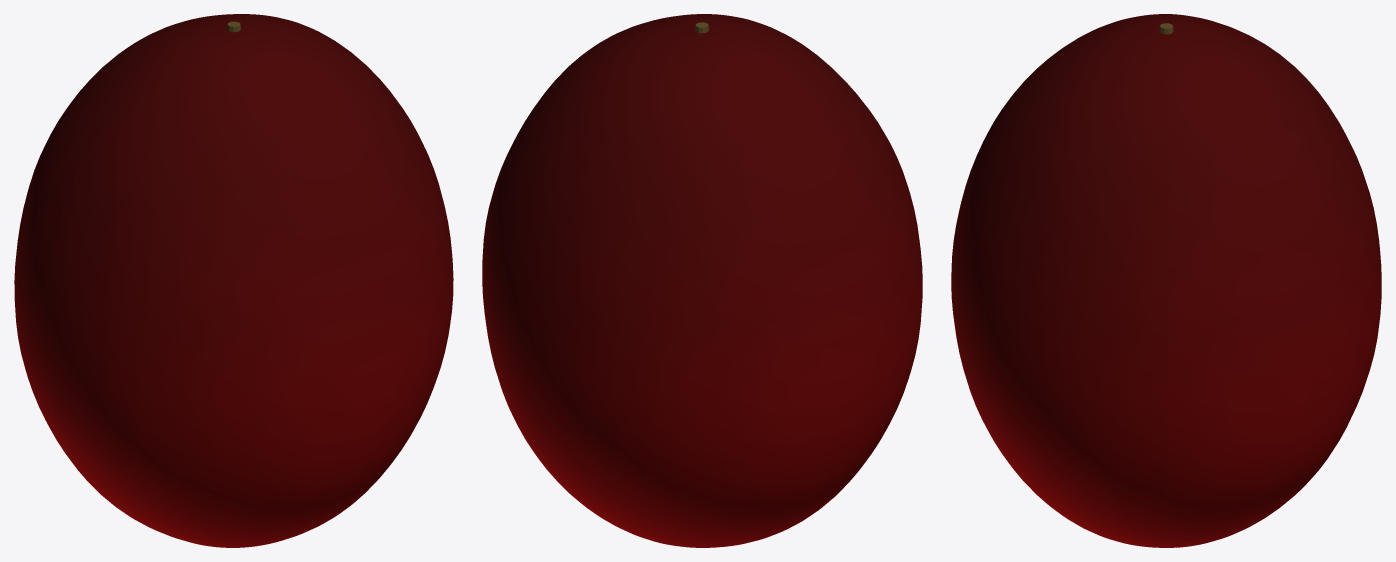
File: prune-rouge.glb
3 views of the same model, side by side, from view 1: azimuth 30°, elevation 25°; view 2: azimuth 150°, elevation 25°; view 3: azimuth 270°, elevation 25° (orthographic).
Visible parts, largest first — view 1: entier_peau, moitie_B_peau, moitie_A_peau; view 2: entier_peau, moitie_A_peau, moitie_B_peau; view 3: entier_peau, moitie_A_peau, moitie_B_peau.
Part boxes in pixels (x1,y1,x2,y2): entier_peau: (14,14,453,547); moitie_B_peau: (42,25,452,547); moitie_A_peau: (14,14,338,504); entier_peau: (482,14,922,547); moitie_A_peau: (482,26,893,547); moitie_B_peau: (598,14,922,500); entier_peau: (951,14,1381,547); moitie_A_peau: (1166,14,1381,547); moitie_B_peau: (951,14,1166,547).
Size of the model in its own units: 1.6 by 2.02 by 1.56.
